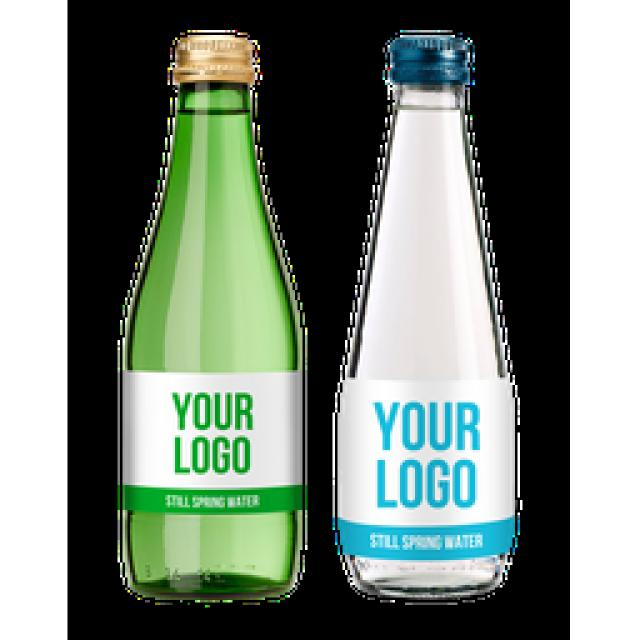glass_beverage_bottles: (112, 30, 312, 610), (330, 30, 522, 610)
